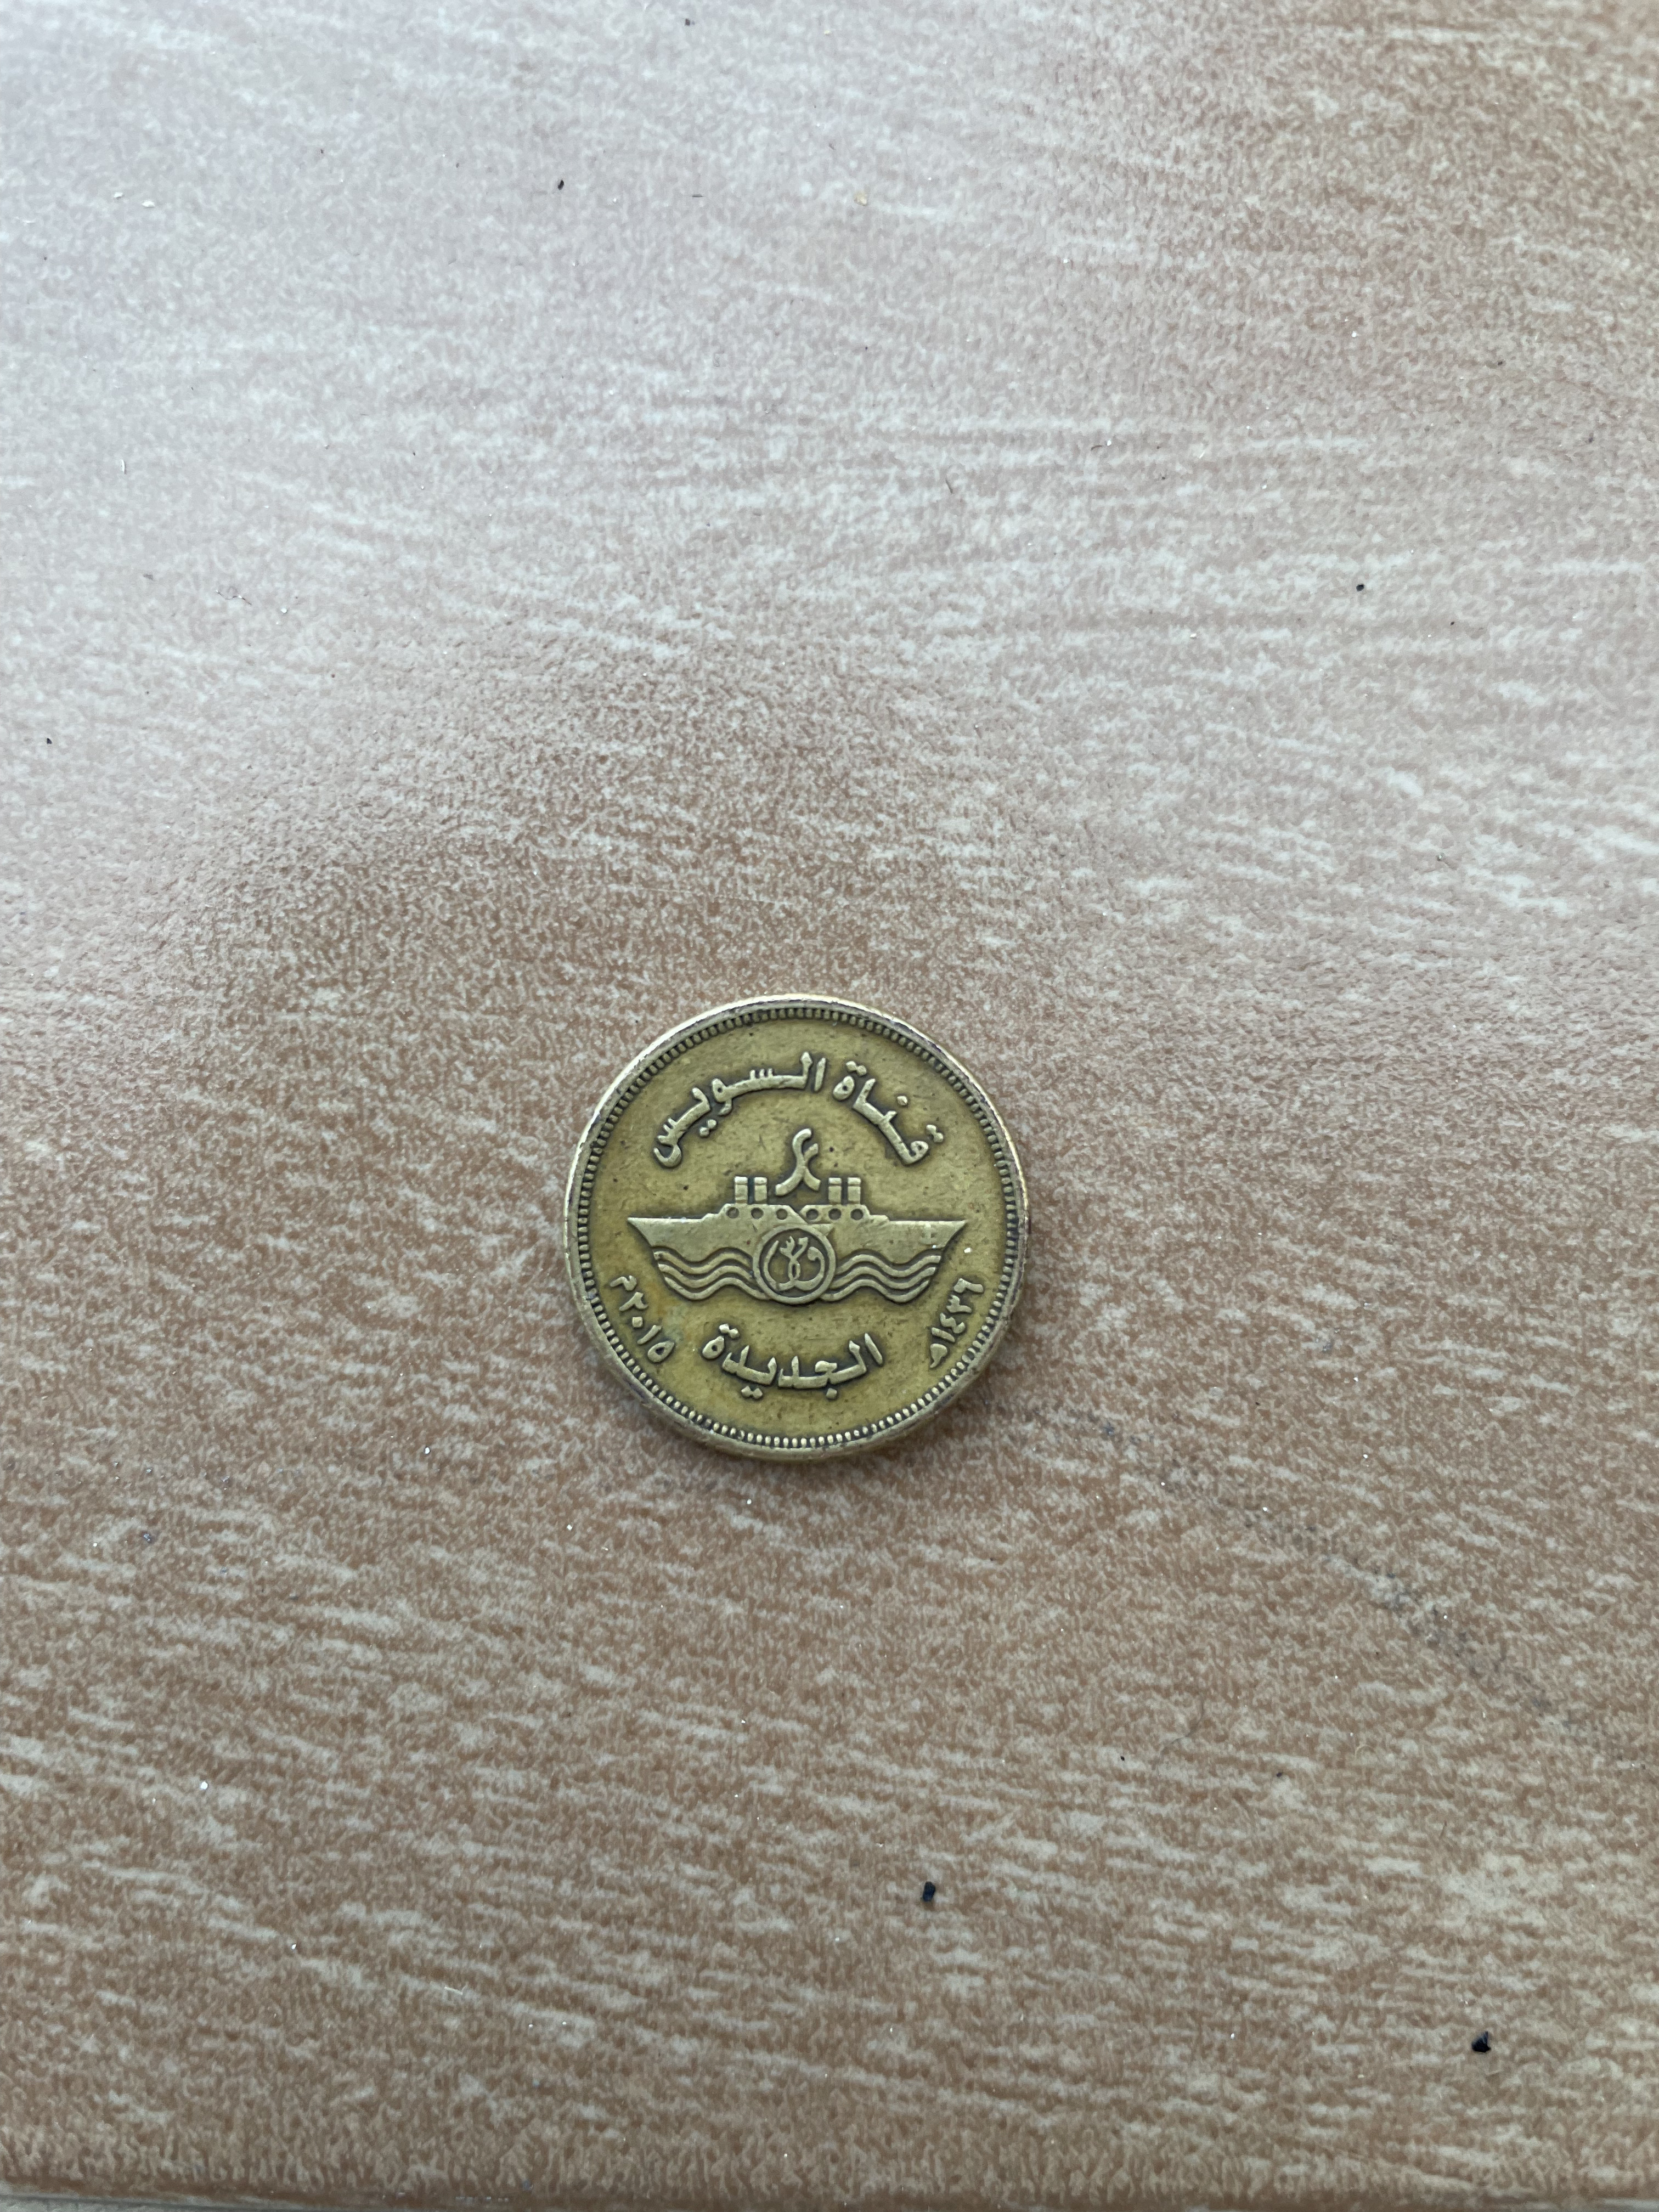half: (545, 991, 1046, 1474)
